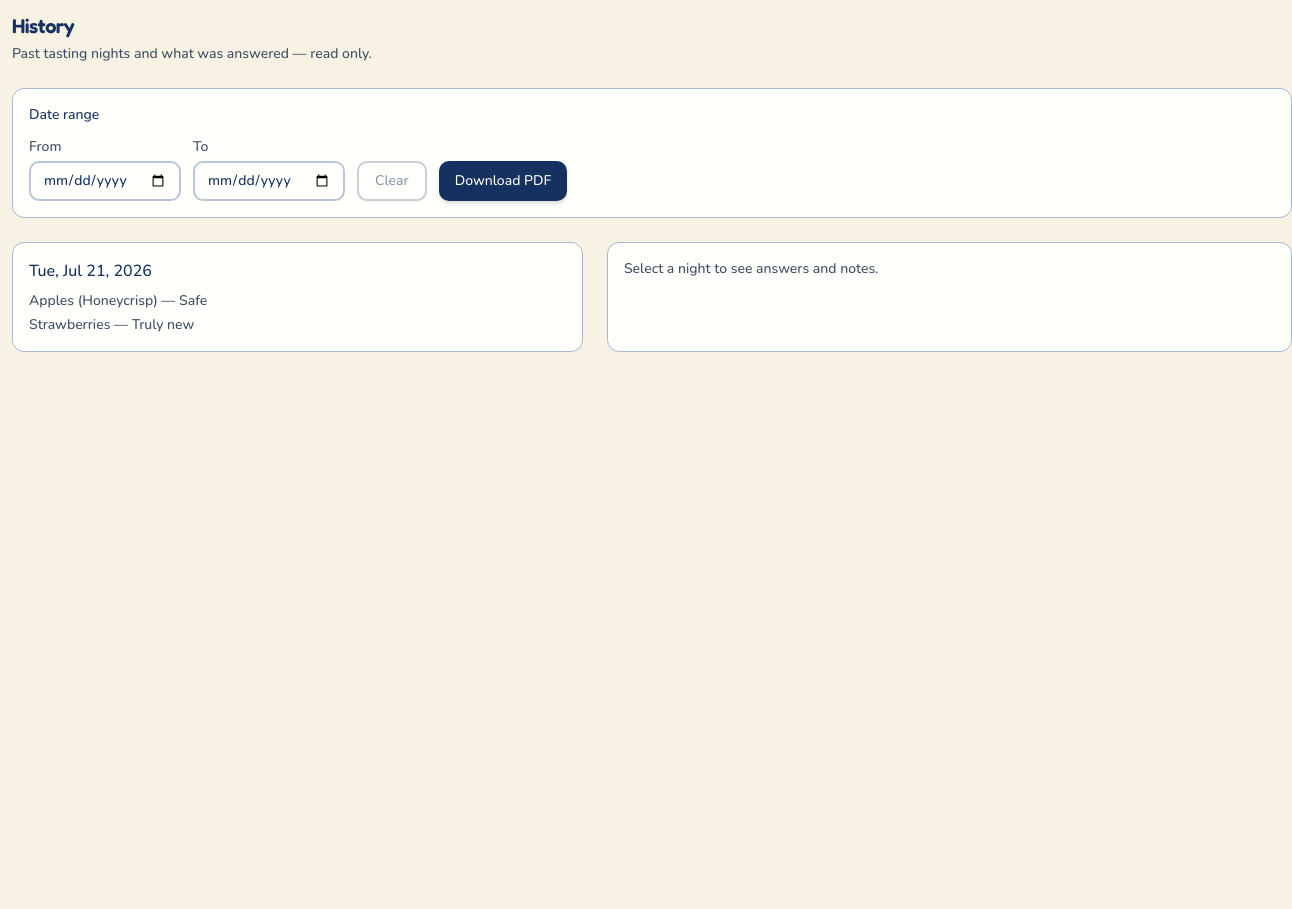
Test case: HistoryPage › shows parent notes in detail when present
Click the button "Honeycrisp": (90, 271) [12,242,583,352]
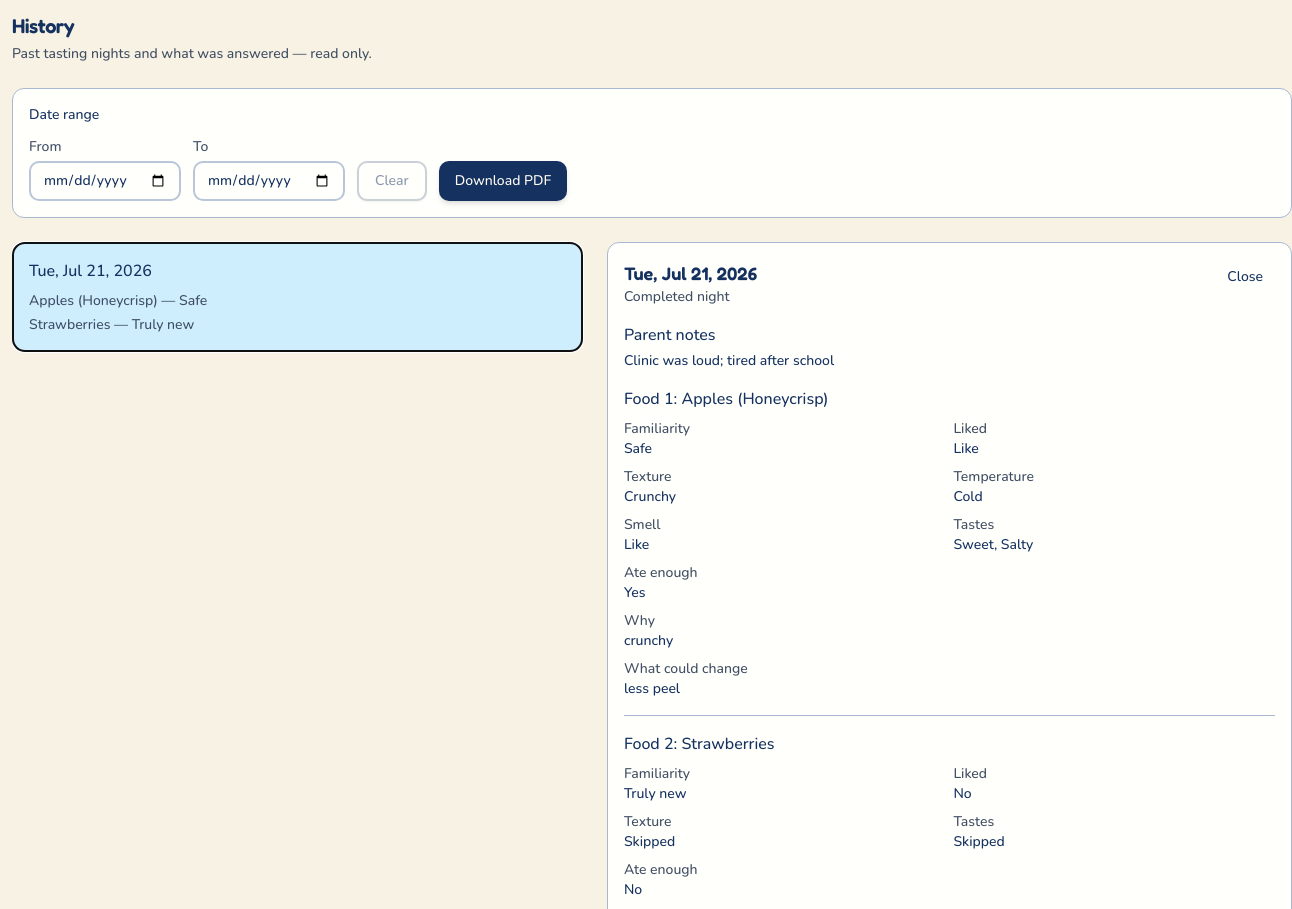
Result: the element labelled "Parent notes" shows "Clinic was loud; tired after school" at [624,351,834,370]
